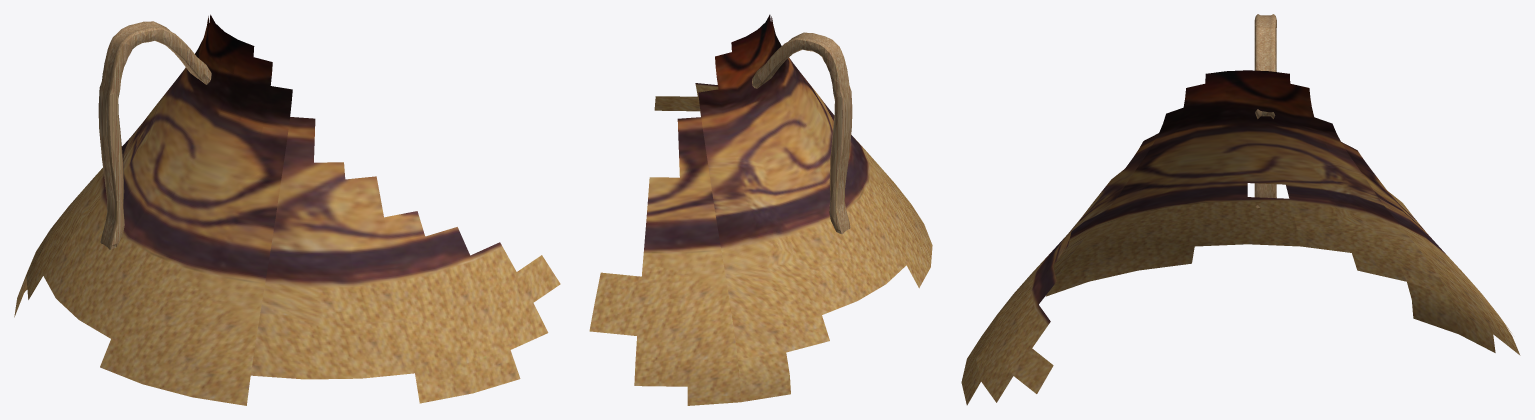
Rendered from vase3.FBX.
The picture shows the model from 3 angles, left to right: view 1: azimuth 30°, elevation 25°; view 2: azimuth 150°, elevation 25°; view 3: azimuth 270°, elevation 25°; orthographic projection. The views are drawn at different scales.
Parts seen in each view (by area): view 1: Group001, Line030; view 2: Group001, Line030; view 3: Group001, Line030.
Part boxes in pixels (<box>): Group001: <box>14,14,560,405</box>; Line030: <box>98,21,211,249</box>; Group001: <box>589,14,932,405</box>; Line030: <box>752,32,852,234</box>; Group001: <box>961,70,1520,405</box>; Line030: <box>1254,14,1276,208</box>.
Size of the model in its own units: 1642 by 1386 by 2176.
Materials: 2 (2 with a texture image).
